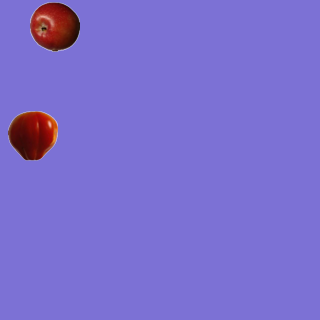Apple Braeburn: (29, 1, 79, 51)
Tomato 1: (7, 110, 57, 160)
